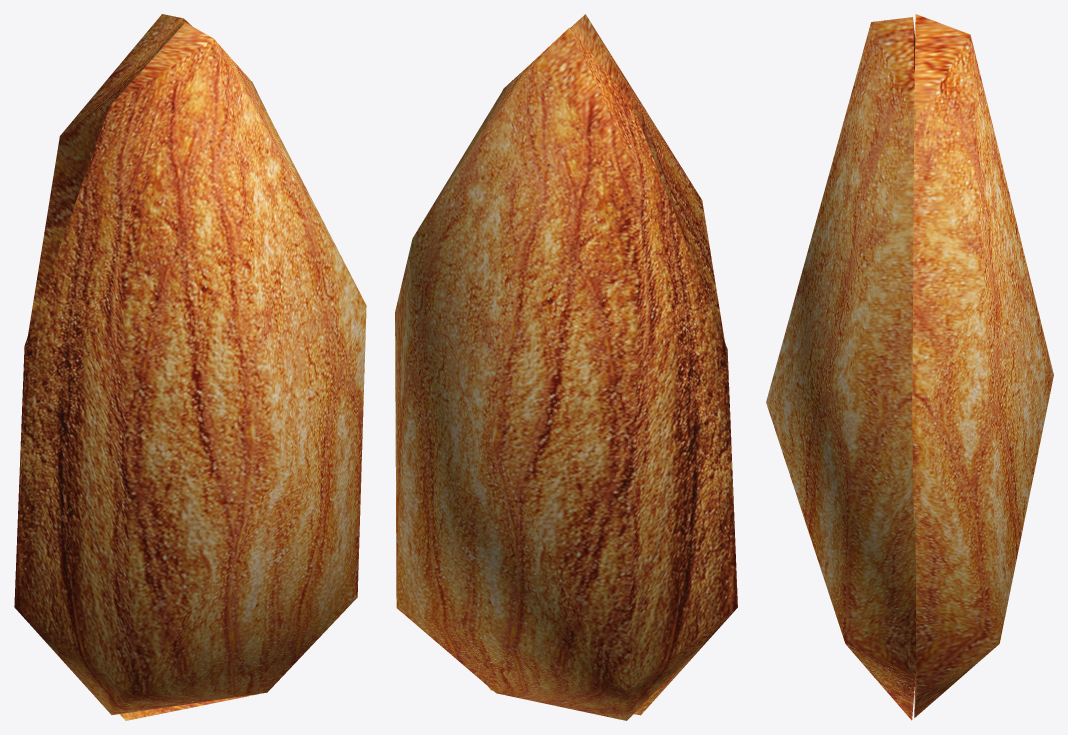
Rendered from pit.glb.
3 renders of one model, left to right at view 1: azimuth 30°, elevation 25°; view 2: azimuth 150°, elevation 25°; view 3: azimuth 270°, elevation 25°, orthographic. The views are drawn at different scales.
Parts seen in each view (by area): view 1: pit; view 2: pit; view 3: pit.
Boxes of the visible parts, x1,y1,x2,y2 form: pit: (14, 14, 366, 720); pit: (395, 14, 737, 720); pit: (766, 14, 1053, 720).
Size of the model in its own units: 0.7275 by 1.39 by 0.5402.
1 material, 1 textured.
